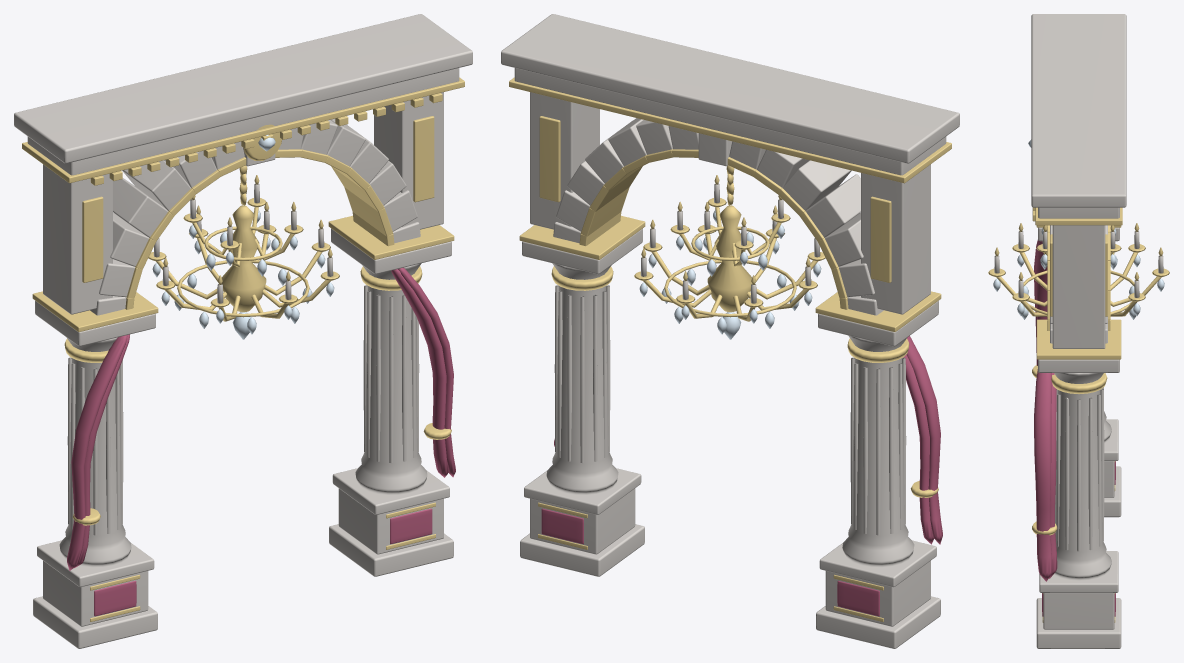
Rendered from rofan-imperial-arch-chandelier.glb.
3 views of the same model, side by side, from view 1: azimuth 30°, elevation 25°; view 2: azimuth 150°, elevation 25°; view 3: azimuth 270°, elevation 25° (orthographic). The views are drawn at different scales.
Parts seen in each view (by area): view 1: rofan-imperial-arch-chandelier__Imperial_Marble_Cream, rofan-imperial-arch-chandelier__Imperial_Gilded_Gold, rofan-imperial-arch-chandelier__Imperial_Velvet_Wine, rofan-imperial-arch-chandelier__Imperial_Crystal_Prism; view 2: rofan-imperial-arch-chandelier__Imperial_Marble_Cream, rofan-imperial-arch-chandelier__Imperial_Gilded_Gold, rofan-imperial-arch-chandelier__Imperial_Velvet_Wine, rofan-imperial-arch-chandelier__Imperial_Crystal_Prism; view 3: rofan-imperial-arch-chandelier__Imperial_Marble_Cream, rofan-imperial-arch-chandelier__Imperial_Gilded_Gold, rofan-imperial-arch-chandelier__Imperial_Velvet_Wine, rofan-imperial-arch-chandelier__Imperial_Crystal_Prism.
Part boxes in pixels (x1,y1,x2,y2): rofan-imperial-arch-chandelier__Imperial_Marble_Cream: [14, 14, 472, 648]; rofan-imperial-arch-chandelier__Imperial_Gilded_Gold: [22, 77, 464, 621]; rofan-imperial-arch-chandelier__Imperial_Velvet_Wine: [67, 267, 455, 616]; rofan-imperial-arch-chandelier__Imperial_Crystal_Prism: [152, 134, 334, 339]; rofan-imperial-arch-chandelier__Imperial_Marble_Cream: [501, 14, 959, 648]; rofan-imperial-arch-chandelier__Imperial_Gilded_Gold: [509, 77, 951, 621]; rofan-imperial-arch-chandelier__Imperial_Velvet_Wine: [541, 336, 942, 616]; rofan-imperial-arch-chandelier__Imperial_Crystal_Prism: [639, 210, 821, 339]; rofan-imperial-arch-chandelier__Imperial_Marble_Cream: [994, 14, 1163, 648]; rofan-imperial-arch-chandelier__Imperial_Gilded_Gold: [988, 207, 1169, 622]; rofan-imperial-arch-chandelier__Imperial_Velvet_Wine: [1034, 240, 1115, 616]; rofan-imperial-arch-chandelier__Imperial_Crystal_Prism: [993, 139, 1164, 319].
Size of the model in its own units: 3.26 by 3.86 by 1.38.
